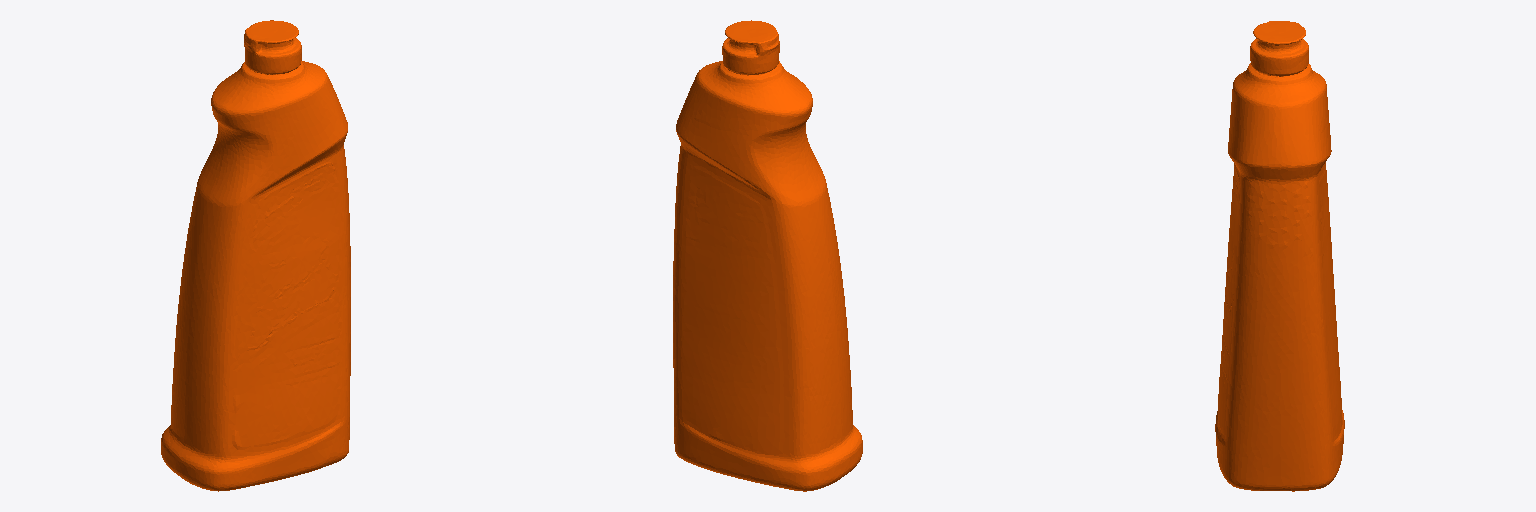
URDF robot description (021_bleach_cleanser):
<?xml version="1.0" ?>
<robot name="021_bleach_cleanser">
   <material name="obj_color">
      <color rgba="1.0 0.423529411765 0.0392156862745 1.0"/>
   </material>
   <link name="top">
      <inertial>
         <origin rpy="0.001499973242978644 0.008332915183711343 0.008949611207572957" xyz="-4.303908408017031e-05 0.001821380456890292 -0.02276457549833001"/>
         <mass value="1.250348201356027"/> 
         <inertia ixx="0.008299050206730052" ixy="6.729549810735229e-06" ixz="-0.0004803173656681912" iyy="0.00894954150593975" iyz="4.172876560318024e-06" izz="0.001533907921593141"/>
      </inertial>
      <visual>
         <origin rpy="0 0 0" xyz="0 0 0"/>
         <geometry>
            <mesh filename="top_watertight_tiny.stl" scale="1 1 1"/>
         </geometry>
         <material name="obj_color"/>
      </visual>
      <collision>
         <origin rpy="0 0 0" xyz="0 0 0"/>
         <geometry>
            <mesh filename="top_watertight_tiny.obj" scale="1 1 1"/>
         </geometry>
      </collision>
   </link>
   <link name="bottom">
      <inertial>
         <origin rpy="1.633333333199431e-08 1.633333333199431e-08 1.633333333362855e-08" xyz="0.3464080000000008 0.3464080000000008 0.3464080000000008"/>
         <mass value="0.0009800000000000017"/>
         <inertia ixx="1.633333333253906e-08" ixy="5.447480642029219e-19" ixz="5.447480642029219e-19" iyy="1.633333333253906e-08" iyz="5.447480642029219e-19" izz="1.633333333253906e-08"/>
      </inertial>
      <visual>
         <origin rpy="0 0 0" xyz="0 0 0"/>
         <geometry>
            <mesh filename="bottom_watertight_tiny.stl" scale="1 1 1"/>
         </geometry>
         <material name="obj_color"/>
      </visual>
   </link>
   <joint name="rotation" type="revolute">
      <origin xyz="0 0 0"/>
      <axis xyz="0 0 -1"/>
      <parent link="bottom"/>
      <child link="top"/>
      <dynamics damping="1.0" friction="1.0"/>
      <limit effort="0.1" velocity="0.1" lower="0" upper="0.001"/>
   </joint>
</robot>

--- Facts derived from the render (not from the file) ---
Views: 3 orthographic renders of the robot side by side, from view 1: azimuth 30°, elevation 25°; view 2: azimuth 150°, elevation 25°; view 3: azimuth 270°, elevation 25°.
Model 021_bleach_cleanser with 2 links and 1 joints (1 revolute), rooted at bottom, posed every joint at zero.
Visible links, largest first — view 1: top; view 2: top; view 3: top.
Link boxes in pixels (<box>): top: <box>161,20,350,491</box>; top: <box>673,20,862,491</box>; top: <box>1215,21,1344,491</box>.
Bounding box of the posed robot: 0.1024 × 0.0677 × 0.2506 m (x, y, z).
1 mesh visuals loaded from 2 distinct referenced files (1 binary STL); not drawn: 1 (reference not matched to a file when rendering).
